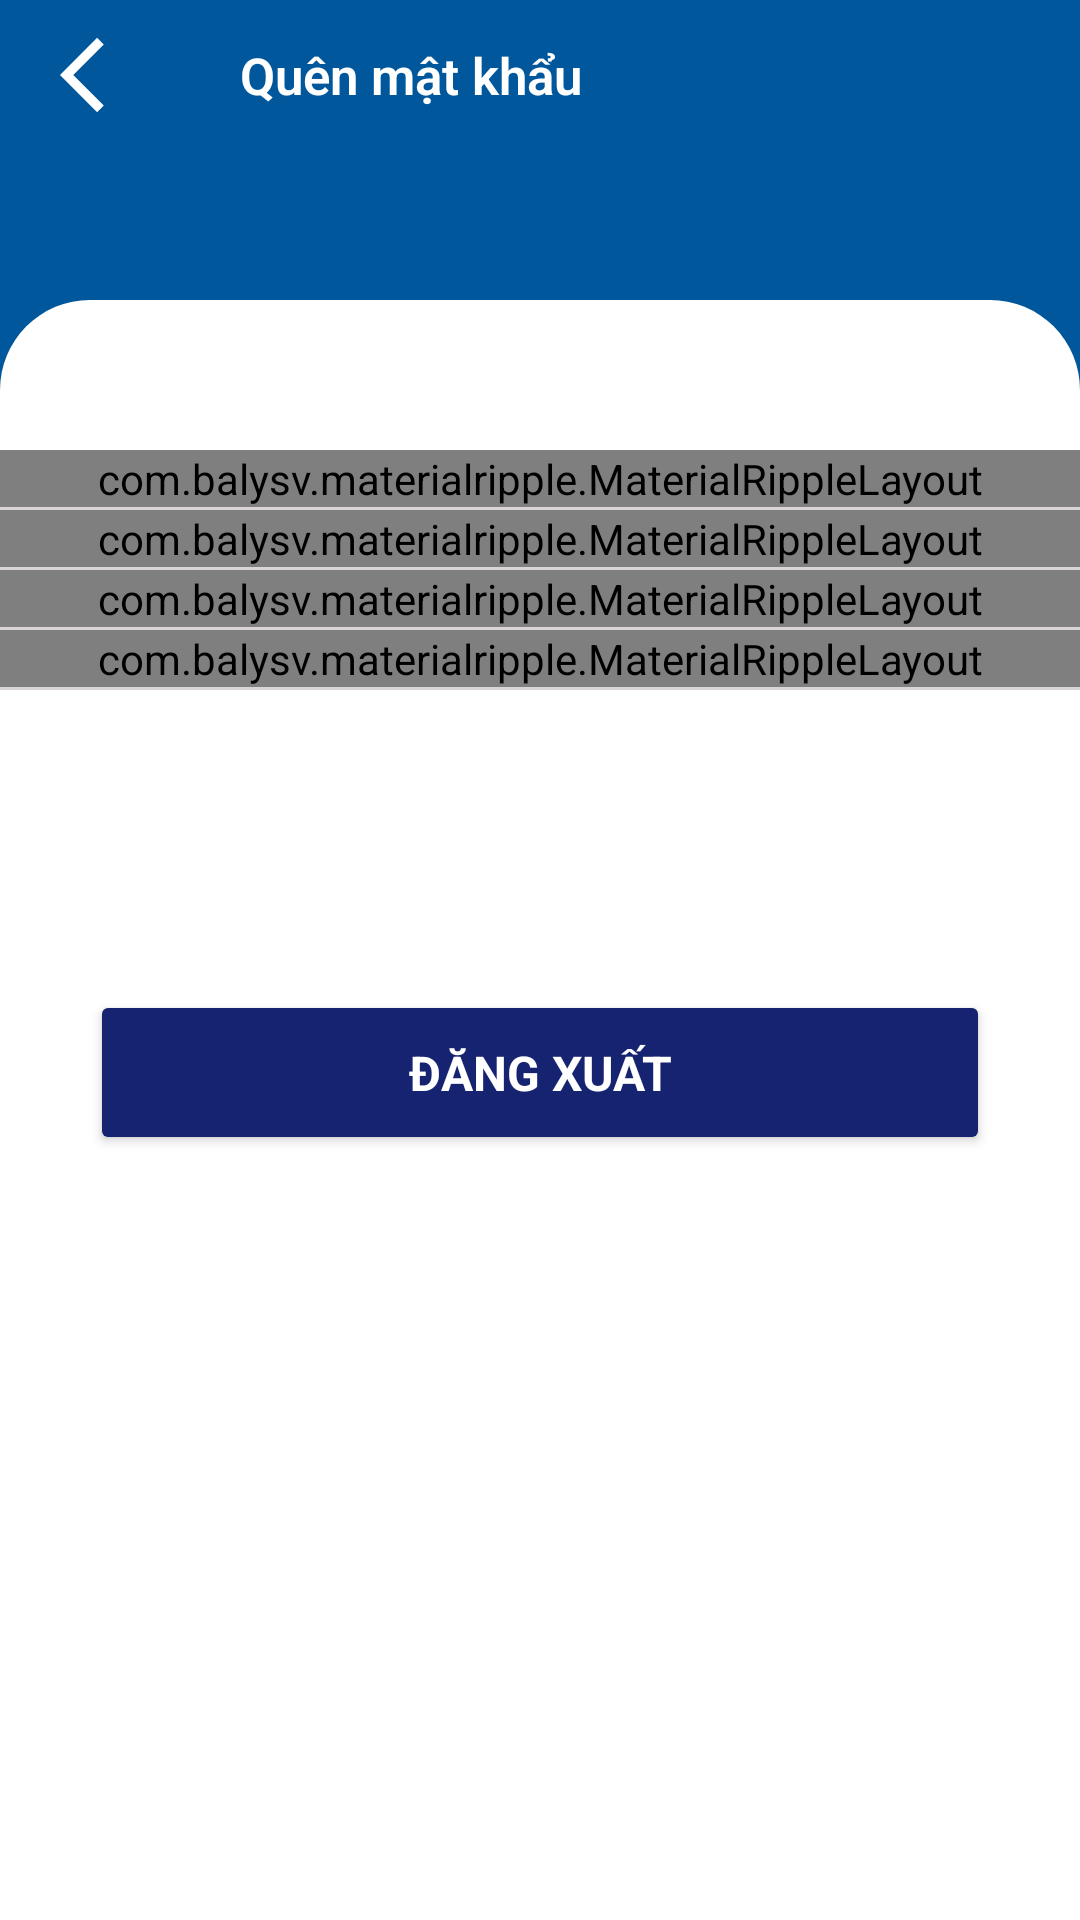

Named icons in this screenshot (1080px×1920px) and their centers, (x=x, y=y):
back: (x=82, y=75)
